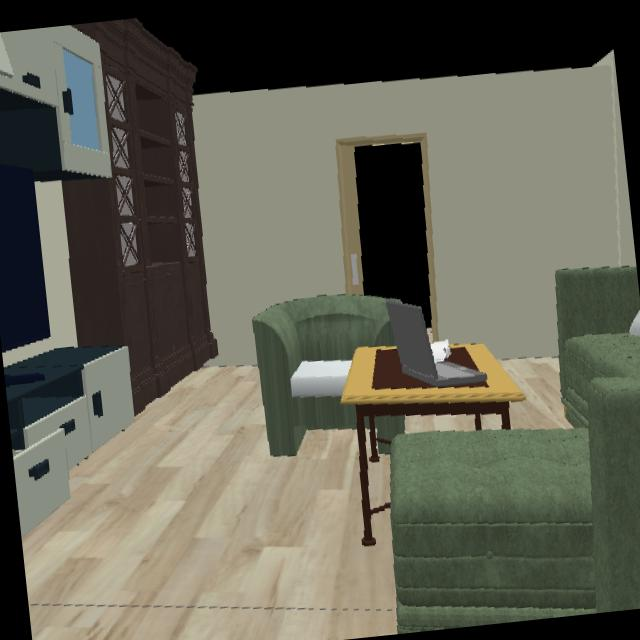bookshelf: (60, 18, 217, 413)
cabinet: (3, 346, 134, 537), (0, 24, 111, 180)
laptop: (386, 301, 487, 388)
monitor: (0, 164, 47, 354)
sofa: (390, 268, 640, 633), (251, 294, 395, 458)
table: (340, 343, 522, 420)
